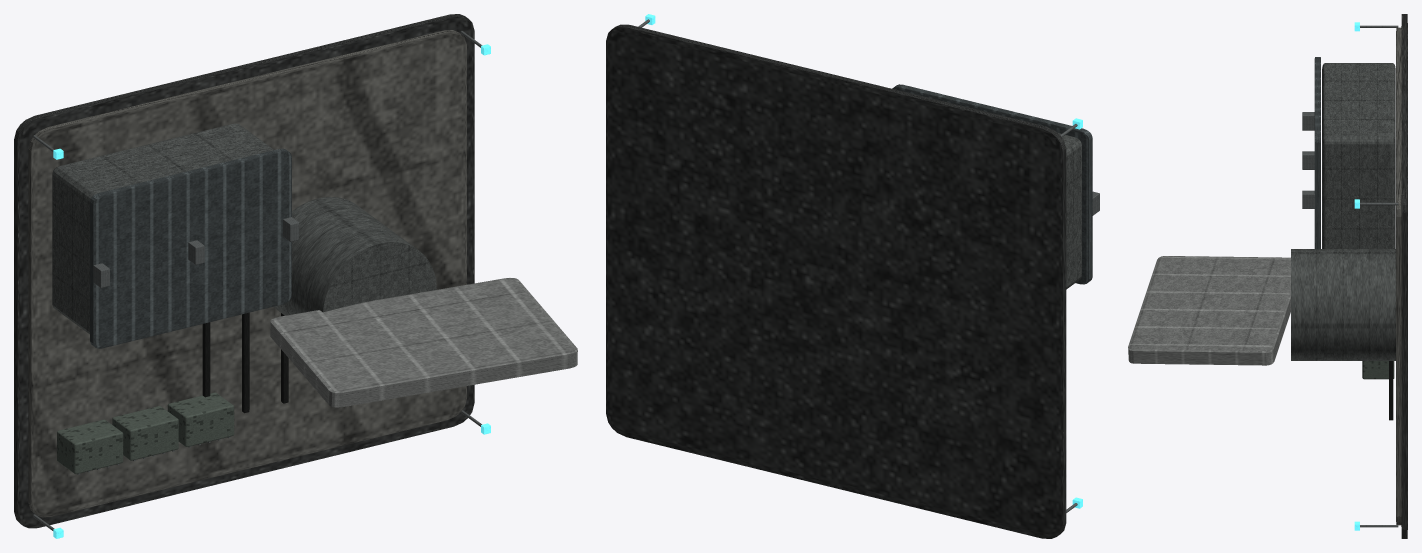
File: b-22-phased-array-radar-lod0.glb
3 views of the same model, side by side, from view 1: azimuth 30°, elevation 25°; view 2: azimuth 150°, elevation 25°; view 3: azimuth 270°, elevation 25° (orthographic). The views are drawn at different scales.
Visible parts, largest first — view 1: foundation_inner_pad, radar_ops_roof, primary_phased_array, foundation, radar_ops_main_hall, primary_radar_pedestal, radar_generator_0_container, radar_generator_2_container, radar_generator_1_container, radar_cable_trench_1, radar_cable_trench_0; view 2: foundation, radar_ops_roof, radar_ops_main_hall; view 3: primary_phased_array, radar_ops_main_hall, primary_radar_pedestal, foundation, foundation_inner_pad, radar_ops_roof, radar_generator_2_container.
Boxes of the visible parts, x1,y1,x2,y2 form: foundation_inner_pad: (28, 30, 466, 517); radar_ops_roof: (90, 148, 291, 348); primary_phased_array: (270, 278, 577, 407); foundation: (14, 14, 474, 528); radar_ops_main_hall: (52, 123, 273, 334); primary_radar_pedestal: (274, 197, 436, 315); radar_generator_0_container: (57, 419, 123, 473); radar_generator_2_container: (167, 392, 234, 446); radar_generator_1_container: (112, 406, 178, 460); radar_cable_trench_1: (242, 312, 249, 413); radar_cable_trench_0: (202, 322, 210, 397); foundation: (606, 24, 1066, 538); radar_ops_roof: (892, 84, 1092, 284); radar_ops_main_hall: (1058, 133, 1081, 289); primary_phased_array: (1128, 256, 1290, 365); radar_ops_main_hall: (1322, 63, 1395, 248); primary_radar_pedestal: (1291, 249, 1395, 360); foundation: (1401, 14, 1407, 538); foundation_inner_pad: (1396, 27, 1401, 525); radar_ops_roof: (1314, 57, 1320, 248); radar_generator_2_container: (1362, 361, 1394, 379).
Size of what is drawn, in the model's own units: 14 by 12 by 8.74.
10 materials, 10 textured.
